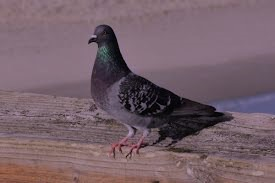pigeon: (85, 23, 224, 160)
